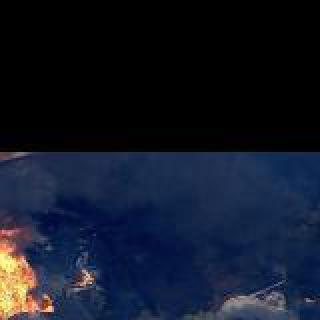fire: (0, 212, 54, 320), (78, 266, 92, 286)
